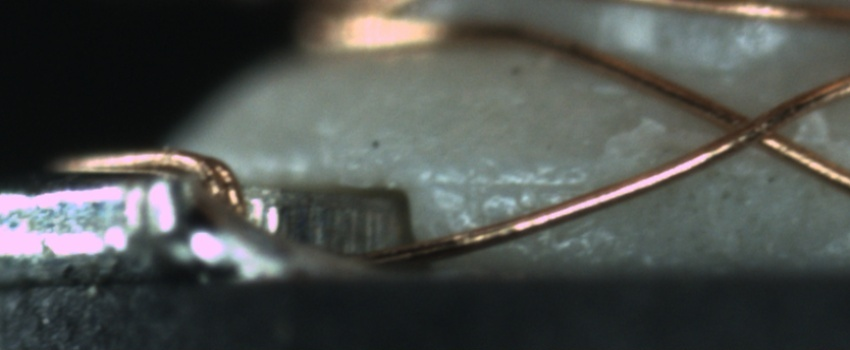CL: (700, 91, 809, 162)
DL: (420, 152, 602, 216)
TE: (57, 148, 258, 231)
